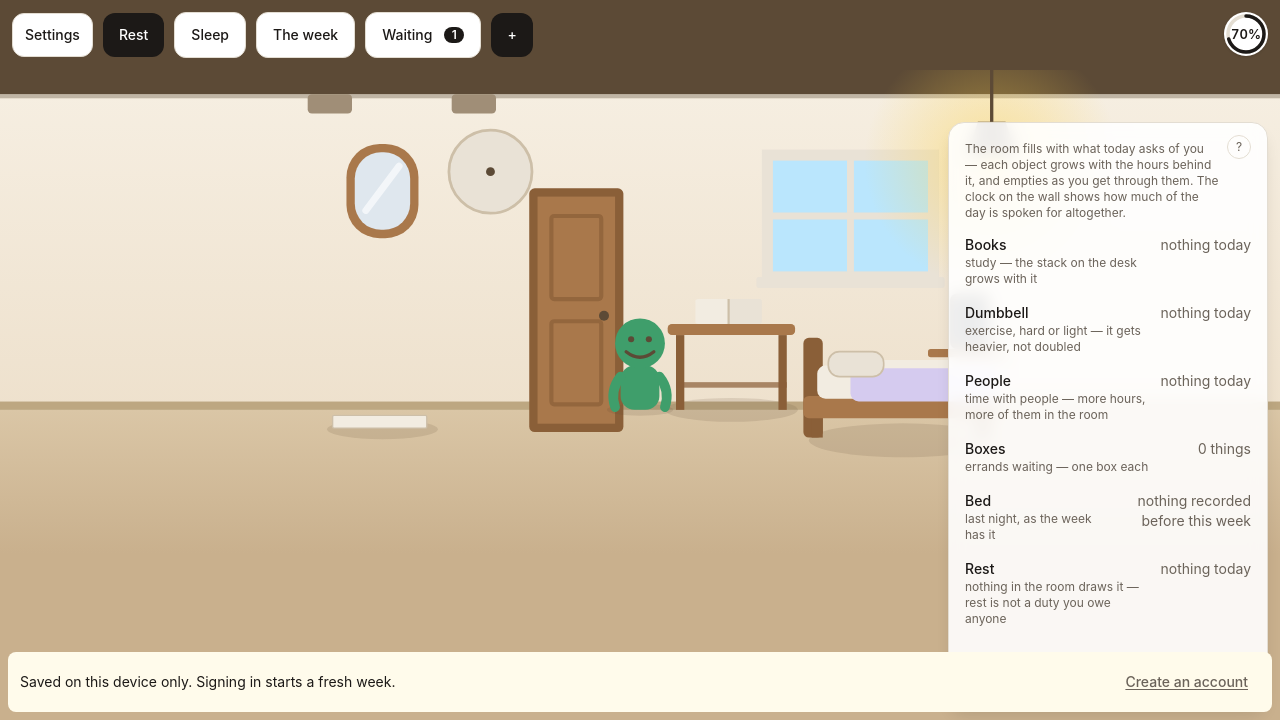
Test: RoomShell scoring its own predictions › publishes the error once something has been scored
Click the button with test id "open-notices" at point(423, 35), box [365,12,481,58]
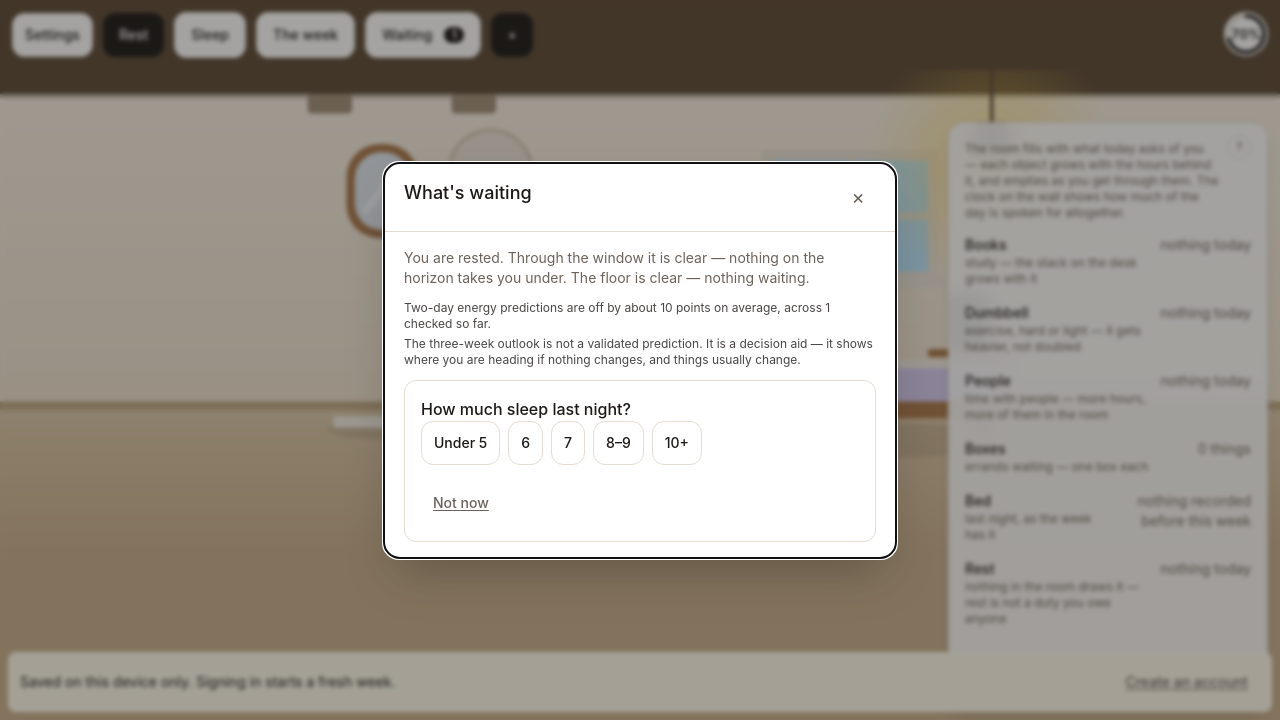
Expected: the text with test id "accuracy-measured" is shown, [404,300,876,332]
Expected: the text with test id "accuracy-measured" shows "off by about 10", [404,300,830,330]
